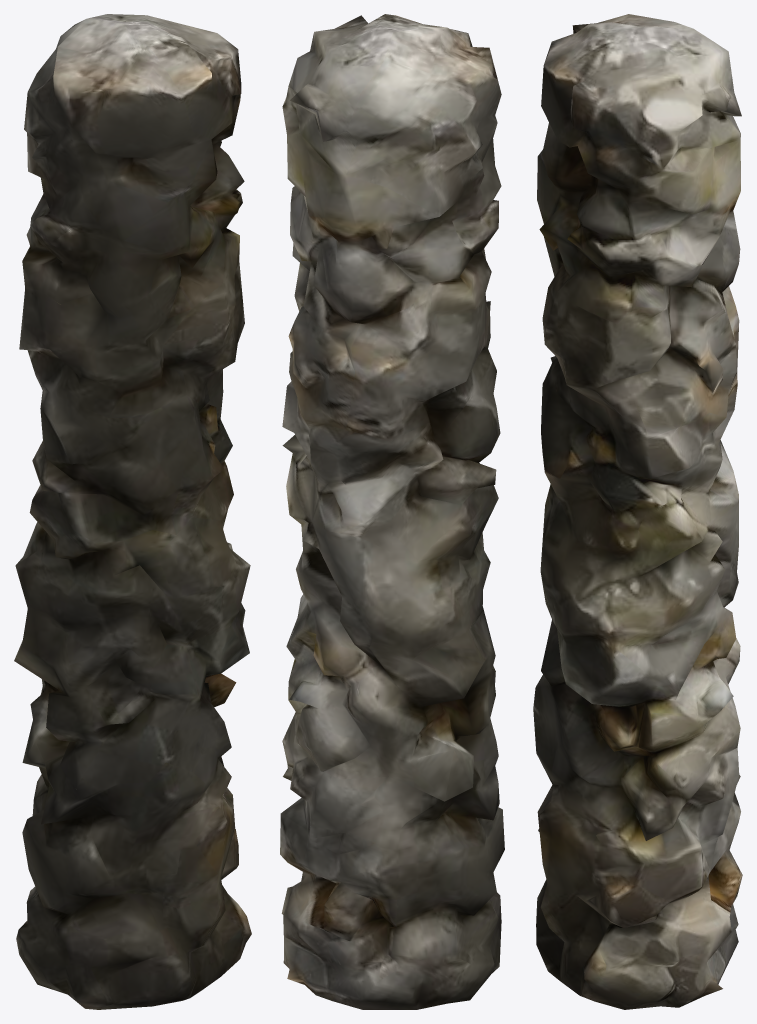
The model's file is qi_core.glb.
The picture shows the model from 3 angles, left to right: view 1: azimuth 30°, elevation 25°; view 2: azimuth 150°, elevation 25°; view 3: azimuth 270°, elevation 25°; orthographic projection.
Visible parts, largest first — view 1: tripo_node_ac9ed7e2-40d3-4f6b-82ce-bb929a469c26; view 2: tripo_node_ac9ed7e2-40d3-4f6b-82ce-bb929a469c26; view 3: tripo_node_ac9ed7e2-40d3-4f6b-82ce-bb929a469c26.
Part boxes in pixels (box(x1,y1,x2,y2)): tripo_node_ac9ed7e2-40d3-4f6b-82ce-bb929a469c26: box(14, 14, 251, 1009); tripo_node_ac9ed7e2-40d3-4f6b-82ce-bb929a469c26: box(280, 14, 504, 1009); tripo_node_ac9ed7e2-40d3-4f6b-82ce-bb929a469c26: box(533, 14, 742, 1009).
Size of the model in its own units: 0.2242 by 1 by 0.2015.
Materials: 1 (1 with a texture image).
